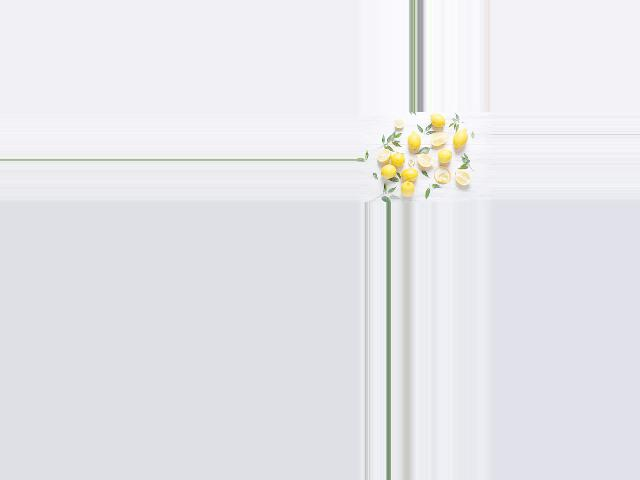lemon: (398, 180, 419, 195)
